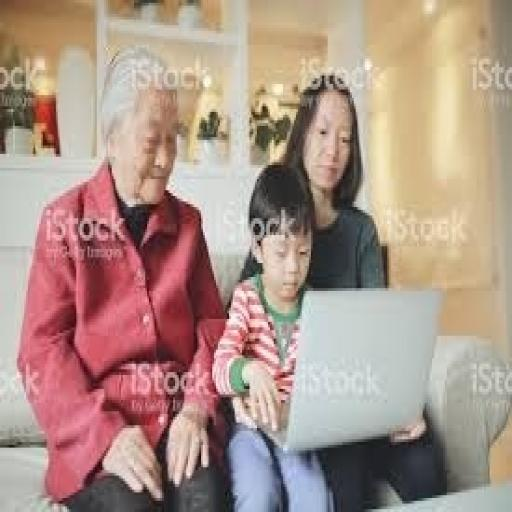using_laptop: (234, 283, 446, 453)
